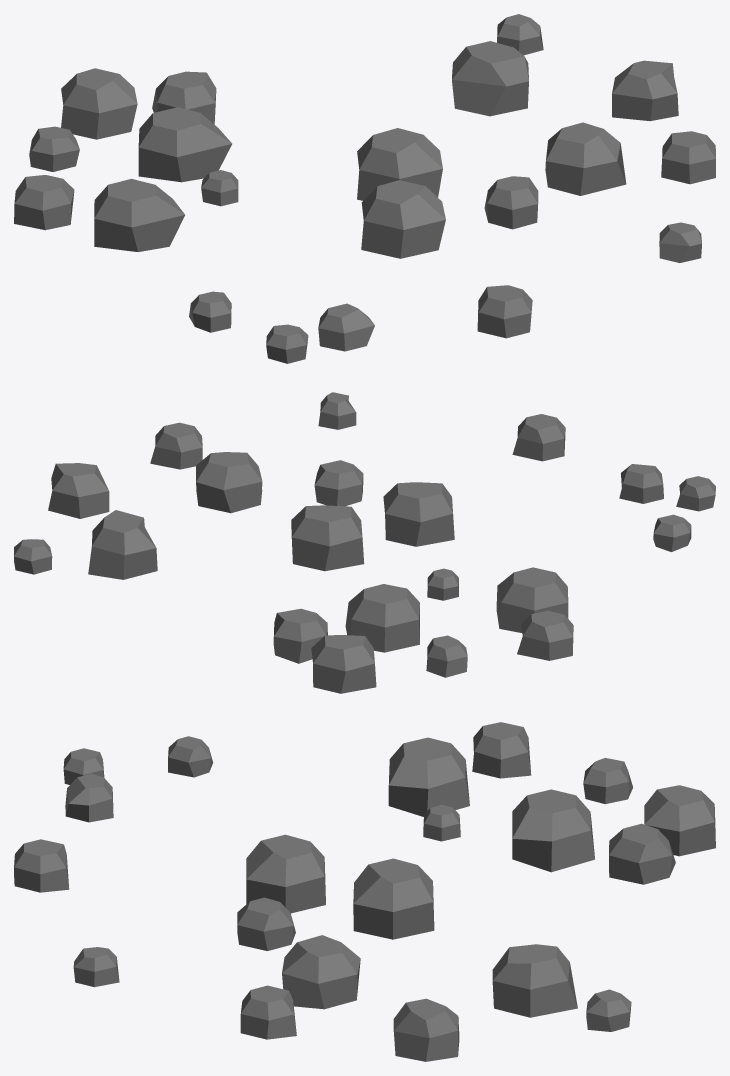
Rendered from Камні1.fbx.
3 views of the same model, one above another, from view 1: azimuth 30°, elevation 25°; view 2: azimuth 150°, elevation 25°; view 3: azimuth 270°, elevation 25° (orthographic). The views are drawn at different scales.
Visible parts, largest first — view 1: Цилиндр.041; view 2: Цилиндр.041; view 3: Цилиндр.041.
Part boxes in pixels (left/top/right/bottom): Цилиндр.041: left=14, top=14, right=715, bottom=363; Цилиндр.041: left=14, top=392, right=715, bottom=693; Цилиндр.041: left=14, top=722, right=715, bottom=1061.
Bounding box in the file's own units: 16076 × 1207 × 15460.
